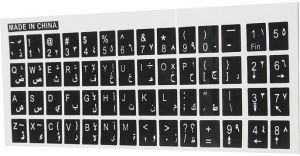keyboard: (11, 25, 297, 152)
